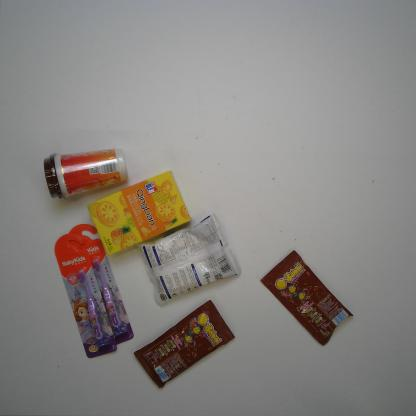Candy: (259, 248, 354, 347), (132, 298, 235, 389)
Dessert: (85, 168, 193, 257)
Instant Drink: (42, 146, 130, 202)
Personal Hygiene: (53, 232, 118, 359), (67, 222, 134, 344)
Seasoner: (134, 212, 244, 308)
